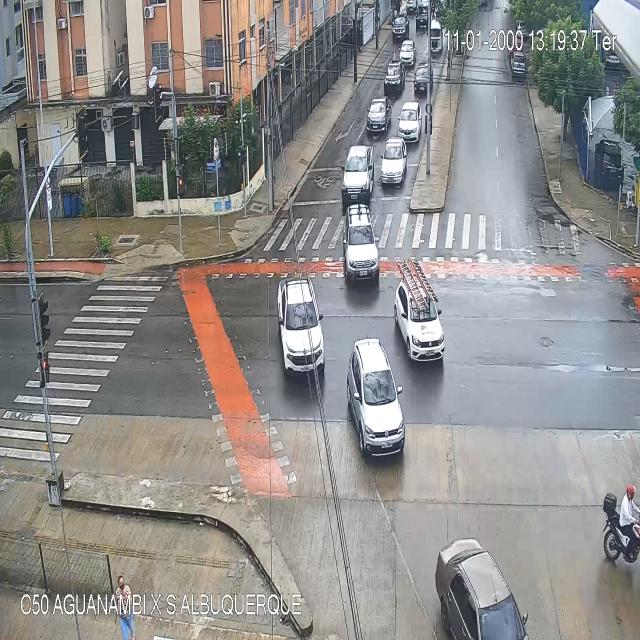Car: (434, 537, 529, 639), (346, 340, 406, 456), (277, 273, 326, 369), (394, 278, 446, 363), (343, 205, 381, 285), (341, 144, 374, 198), (381, 139, 406, 186), (398, 98, 421, 144), (366, 95, 391, 131), (384, 61, 404, 94), (414, 62, 432, 94), (427, 20, 443, 50), (393, 16, 409, 43), (400, 39, 416, 64), (512, 52, 526, 75), (416, 8, 428, 30)
Motorcycle: (603, 484, 640, 560)
